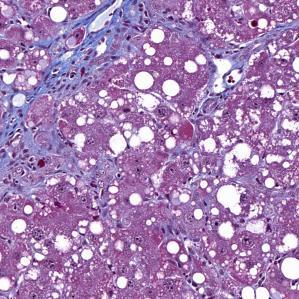fibrosis: (0, 125, 114, 199), (41, 10, 147, 88)
